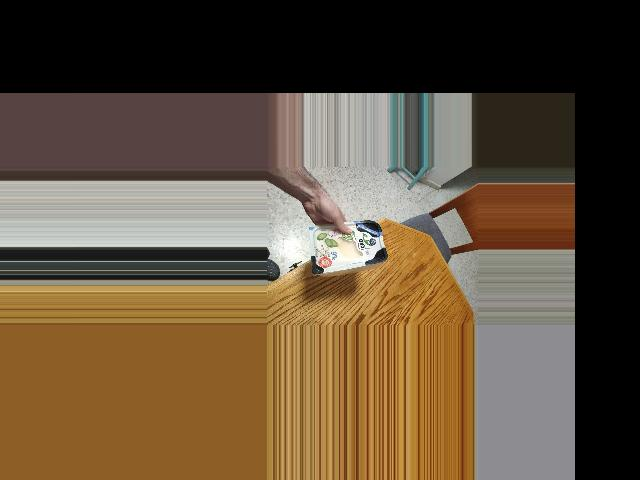cheese: (304, 206, 386, 279)
